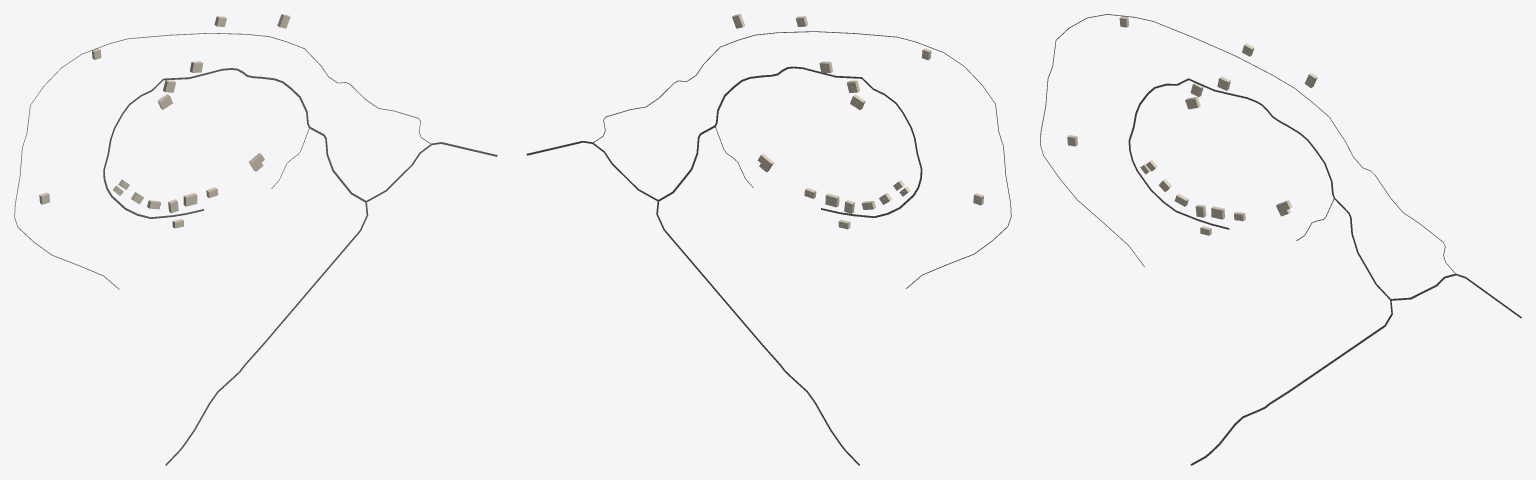
Rendered from historic-palestine-09_25_3510_3197.glb.
3 views of the same model, side by side, from view 1: azimuth 30°, elevation 25°; view 2: azimuth 150°, elevation 25°; view 3: azimuth 330°, elevation 25° (orthographic).
Visible parts, largest first — view 1: Road .001, Road .002; view 2: Road .001, Road .002; view 3: Road .001, Road .002.
Part boxes in pixels (x1,y1,x2,y2): Road .001: [103, 68, 368, 465]; Road .002: [14, 33, 430, 289]; Road .001: [656, 66, 922, 465]; Road .002: [593, 31, 1011, 288]; Road .001: [1128, 78, 1392, 465]; Road .002: [1040, 14, 1455, 273].
Size of the model in its own units: 887 by 766 by 8.7.
